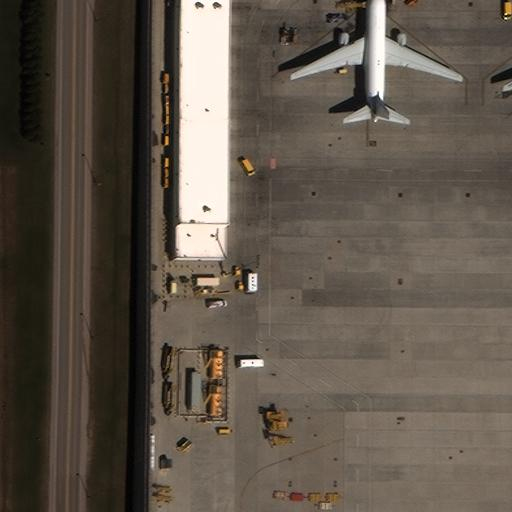Large Civil Transport: (290, 0, 461, 124)
